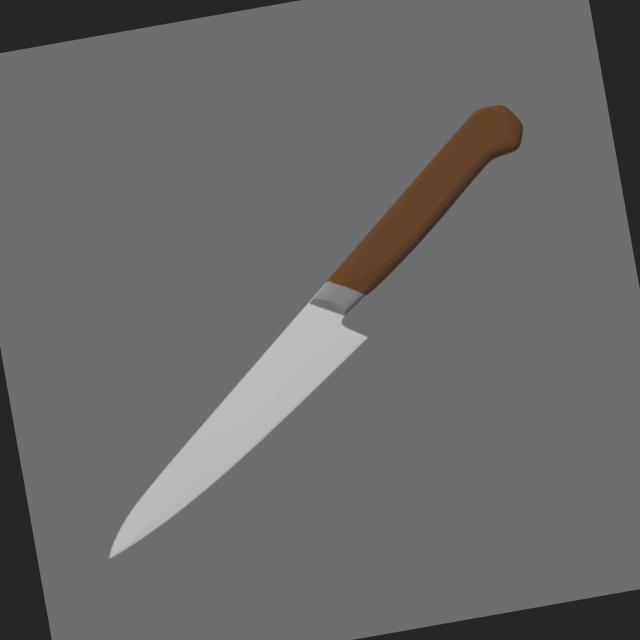knife: (300, 99, 548, 301)
